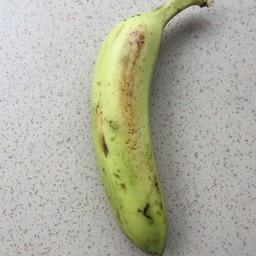Banana Ripe: (84, 0, 217, 256)
